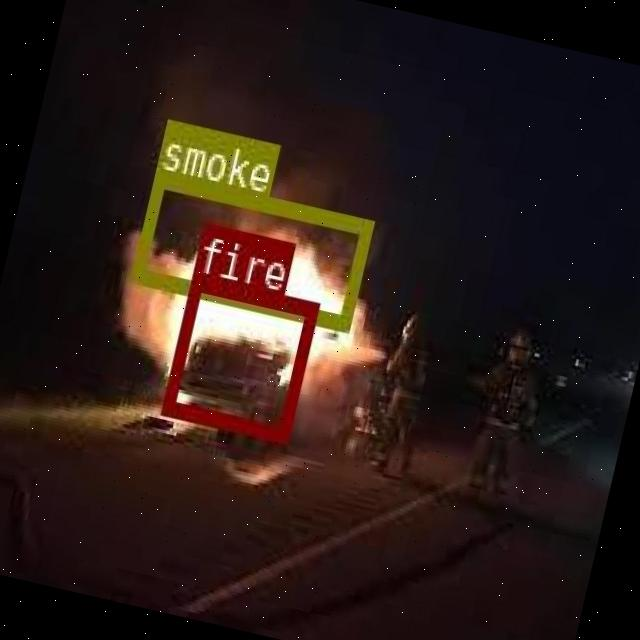fire: (160, 271, 316, 439)
smoke: (130, 169, 371, 327)
